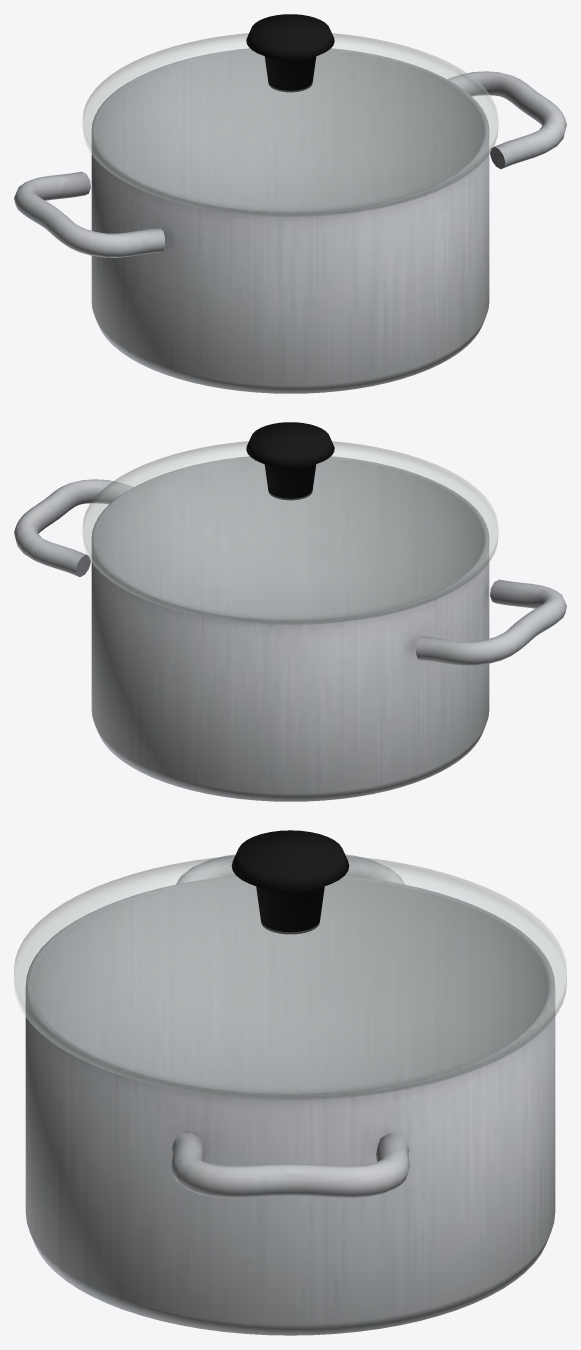
File: saucepan-glass-lid.glb
3 renders of one model, top to bottom at view 1: azimuth 30°, elevation 25°; view 2: azimuth 150°, elevation 25°; view 3: azimuth 270°, elevation 25°, orthographic. The views are drawn at different scales.
Visible parts, largest first — view 1: steel, lid_glass, bakelite; view 2: steel, lid_glass, bakelite; view 3: steel, lid_glass, bakelite.
Boxes of the visible parts, left/top/right/bottom form: steel: left=14, top=48, right=566, bottom=393; lid_glass: left=83, top=33, right=497, bottom=216; bakelite: left=246, top=14, right=334, bottom=92; steel: left=14, top=456, right=566, bottom=801; lid_glass: left=83, top=441, right=497, bottom=624; bakelite: left=246, top=422, right=334, bottom=500; steel: left=25, top=854, right=555, bottom=1335; lid_glass: left=14, top=856, right=566, bottom=1099; bakelite: left=231, top=830, right=349, bottom=934.
Size of the model in its own units: 0.2622 by 0.142 by 0.188.
3 materials, 2 textured.
